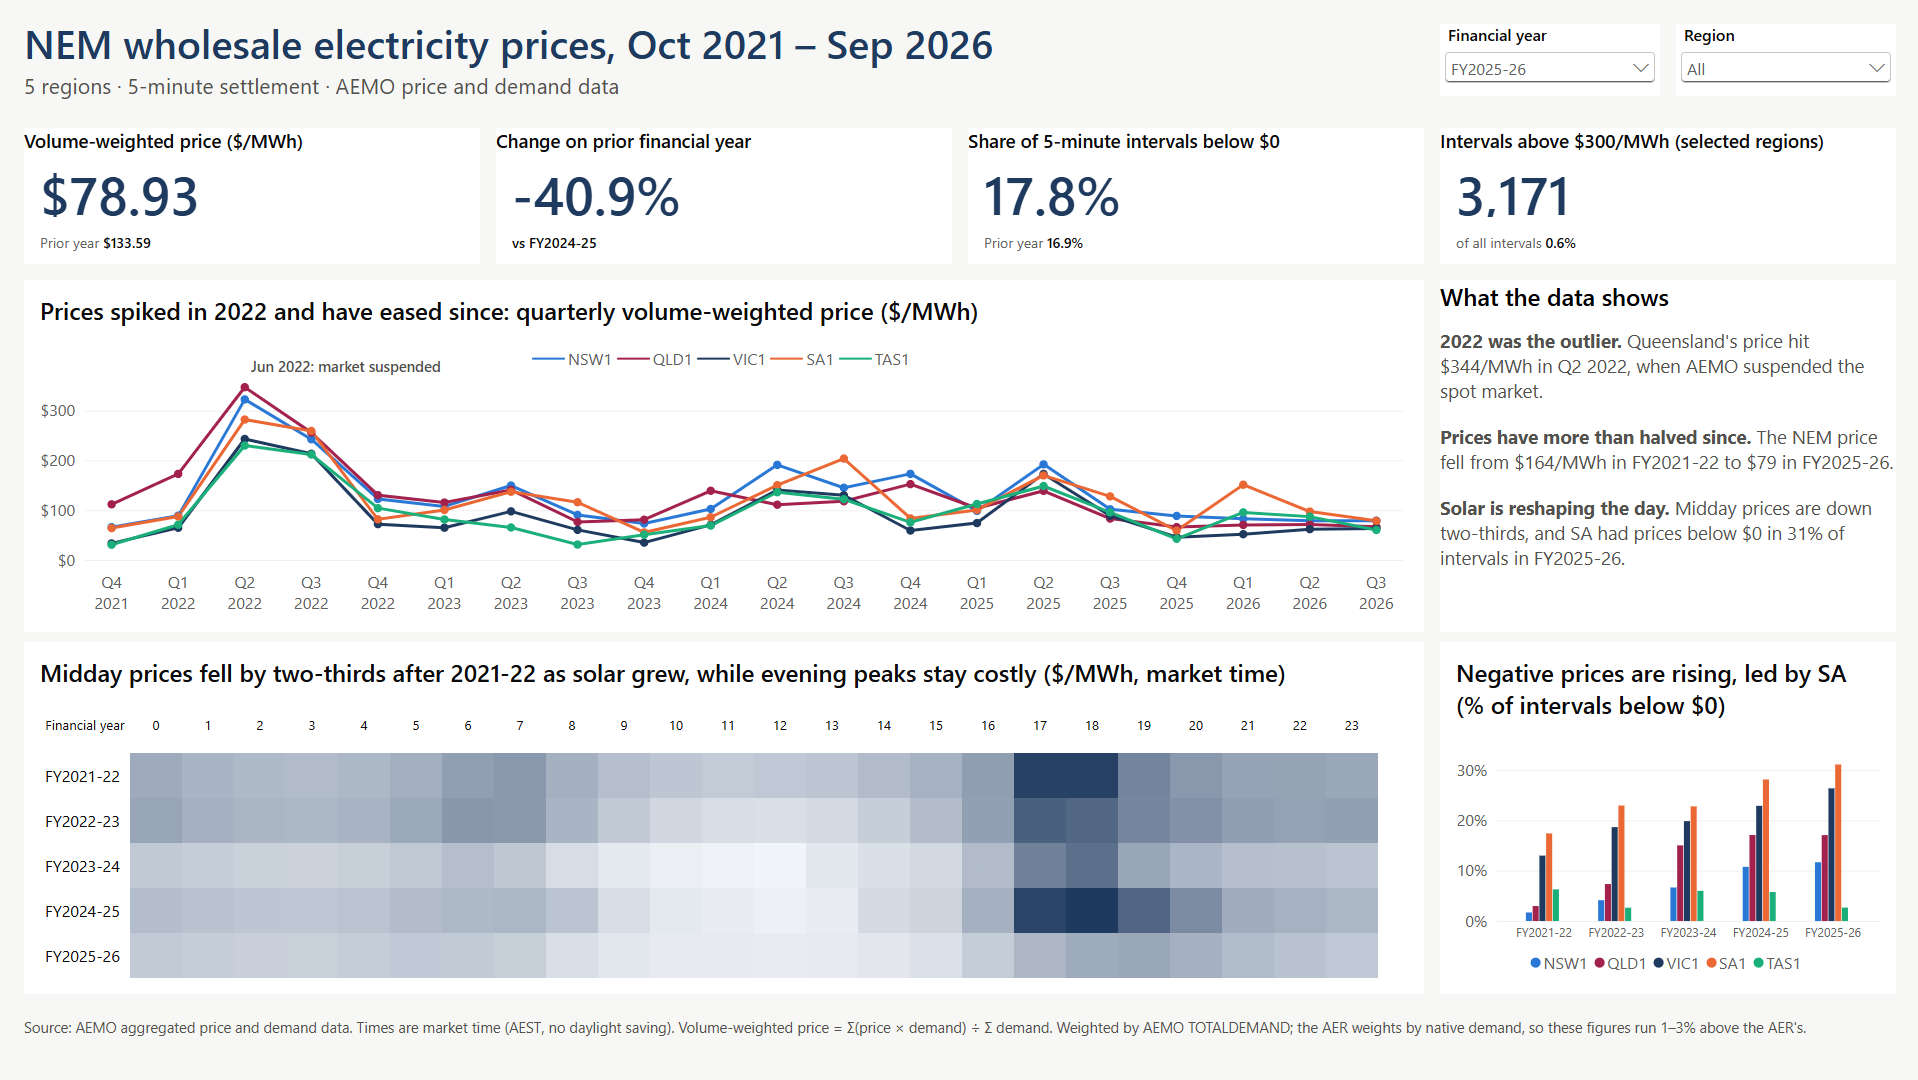

The page's visual inventory and layout, read from the dashboard file:
{"tool":"powerbi","page":{"name":"NEM wholesale prices","canvas":[1920,1080],"ordinal":0},"visuals":[{"type":"lineChart","title":"Prices spiked in 2022 and have eased since: quarterly volume-weighted price ($/MWh)","fields":{"Category":["DimDate.Quarter Label"],"Series":["DimRegion.Region"],"Y":["_Measures.Volume Weighted Price"]},"box":[24,279.7,1400,352],"z":0},{"type":"textbox","title":"NEM wholesale electricity prices, Oct 2021 – Sep 2026","box":[24,16,1100,96],"z":1000},{"type":"slicer","fields":{"Values":["DimDate.Financial Year"]},"box":[1440,24,220,72],"z":2000},{"type":"slicer","fields":{"Values":["DimRegion.Region Name"]},"box":[1676,24,220,72],"z":3000},{"type":"cardVisual","title":"Volume-weighted price ($/MWh)","fields":{"Data":["_Measures.Volume Weighted Price"]},"box":[24,128,456,136],"z":4000},{"type":"cardVisual","title":"Change on prior financial year","fields":{"Data":["_Measures.VWP YoY %"]},"box":[496,128,456,136],"z":5000},{"type":"cardVisual","title":"Share of 5-minute intervals below $0","fields":{"Data":["_Measures.Negative Price Intervals %"]},"box":[968,128,456,136],"z":6000},{"type":"cardVisual","title":"Intervals above $300/MWh (selected regions)","fields":{"Data":["_Measures.Price Spike Intervals"]},"box":[1440,128,456,136],"z":7000},{"type":"textbox","title":"What the data shows","box":[1440,280,456,352],"z":8000},{"type":"pivotTable","title":"Midday prices fell by two-thirds after 2021-22 as solar grew, while evening peaks stay costly ($/MWh, market time)","fields":{"Columns":["FactPrice.Hour"],"Rows":["DimDate.Financial Year"],"Values":["_Measures.Time Weighted Price"]},"box":[24,642,1400,352],"z":9000},{"type":"clusteredColumnChart","title":"Negative prices are rising, led by SA (% of intervals below $0)","fields":{"Category":["DimDate.Financial Year"],"Series":["DimRegion.Region"],"Y":["_Measures.Negative Price Intervals %"]},"box":[1440,642,456,352],"z":10000},{"type":"textbox","box":[24,1016,1872,56],"z":11000},{"type":"textbox","title":"Jun 2022: market suspended","box":[251.1,356.3,323.1,99.7],"z":12000}]}

Visuals, with their boxes in screenshot pixels (x1, y1, x2, y2), scaled from the page's 1920x1080 canvas onto the 1918x1080 screenshot:
"Prices spiked in 2022 and have eased since: quarterly volume-weighted price ($/MWh)" lineChart: {"left": 24, "top": 280, "right": 1423, "bottom": 632}
"NEM wholesale electricity prices, Oct 2021 – Sep 2026" textbox: {"left": 24, "top": 16, "right": 1123, "bottom": 112}
slicer - DimDate.Financial Year: {"left": 1438, "top": 24, "right": 1658, "bottom": 96}
slicer - DimRegion.Region Name: {"left": 1674, "top": 24, "right": 1894, "bottom": 96}
"Volume-weighted price ($/MWh)" cardVisual: {"left": 24, "top": 128, "right": 480, "bottom": 264}
"Change on prior financial year" cardVisual: {"left": 495, "top": 128, "right": 951, "bottom": 264}
"Share of 5-minute intervals below $0" cardVisual: {"left": 967, "top": 128, "right": 1423, "bottom": 264}
"Intervals above $300/MWh (selected regions)" cardVisual: {"left": 1438, "top": 128, "right": 1894, "bottom": 264}
"What the data shows" textbox: {"left": 1438, "top": 280, "right": 1894, "bottom": 632}
"Midday prices fell by two-thirds after 2021-22 as solar grew, while evening peaks stay costly ($/MWh, market time)" pivotTable: {"left": 24, "top": 642, "right": 1423, "bottom": 994}
"Negative prices are rising, led by SA (% of intervals below $0)" clusteredColumnChart: {"left": 1438, "top": 642, "right": 1894, "bottom": 994}
textbox: {"left": 24, "top": 1016, "right": 1894, "bottom": 1072}
"Jun 2022: market suspended" textbox: {"left": 251, "top": 356, "right": 574, "bottom": 456}
